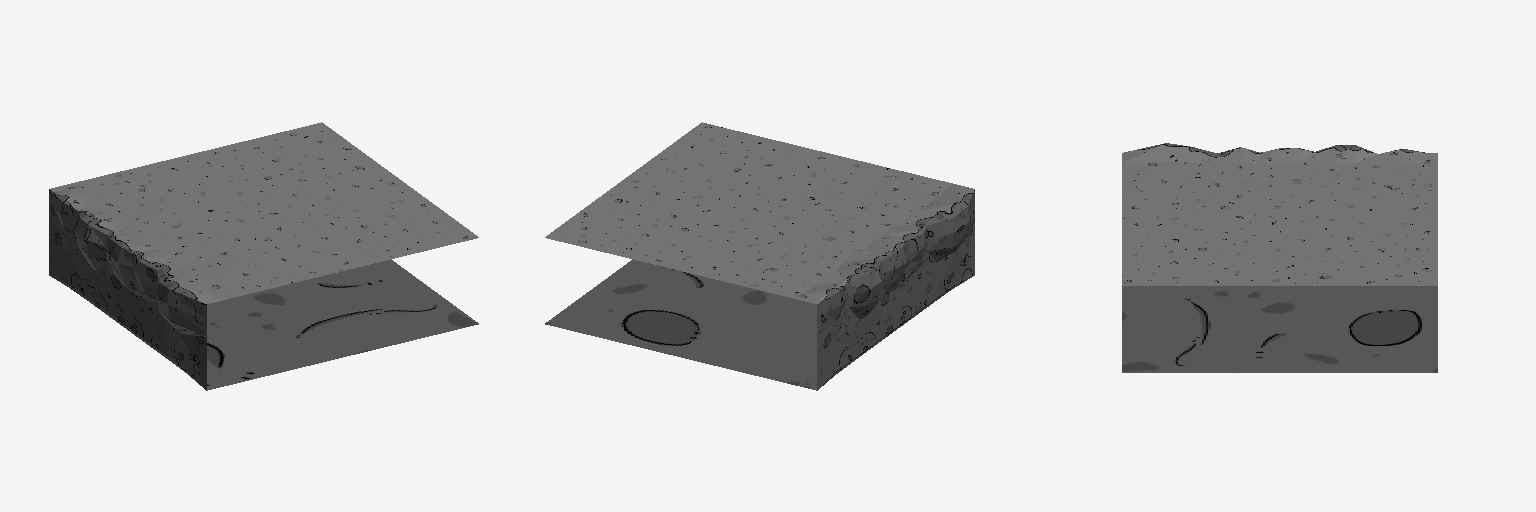
3 renders of one model, left to right at view 1: azimuth 30°, elevation 25°; view 2: azimuth 150°, elevation 25°; view 3: azimuth 270°, elevation 25°, orthographic.
Parts seen in each view (by area): view 1: LOWEDGE; view 2: LOWEDGE; view 3: LOWEDGE.
Boxes of the visible parts, <box> form: LOWEDGE: <box>49,122,478,390</box>; LOWEDGE: <box>545,122,974,390</box>; LOWEDGE: <box>1122,143,1437,372</box>.
Size of the model in its own units: 186 by 56.03 by 175.
Materials: 1 (1 with a texture image).